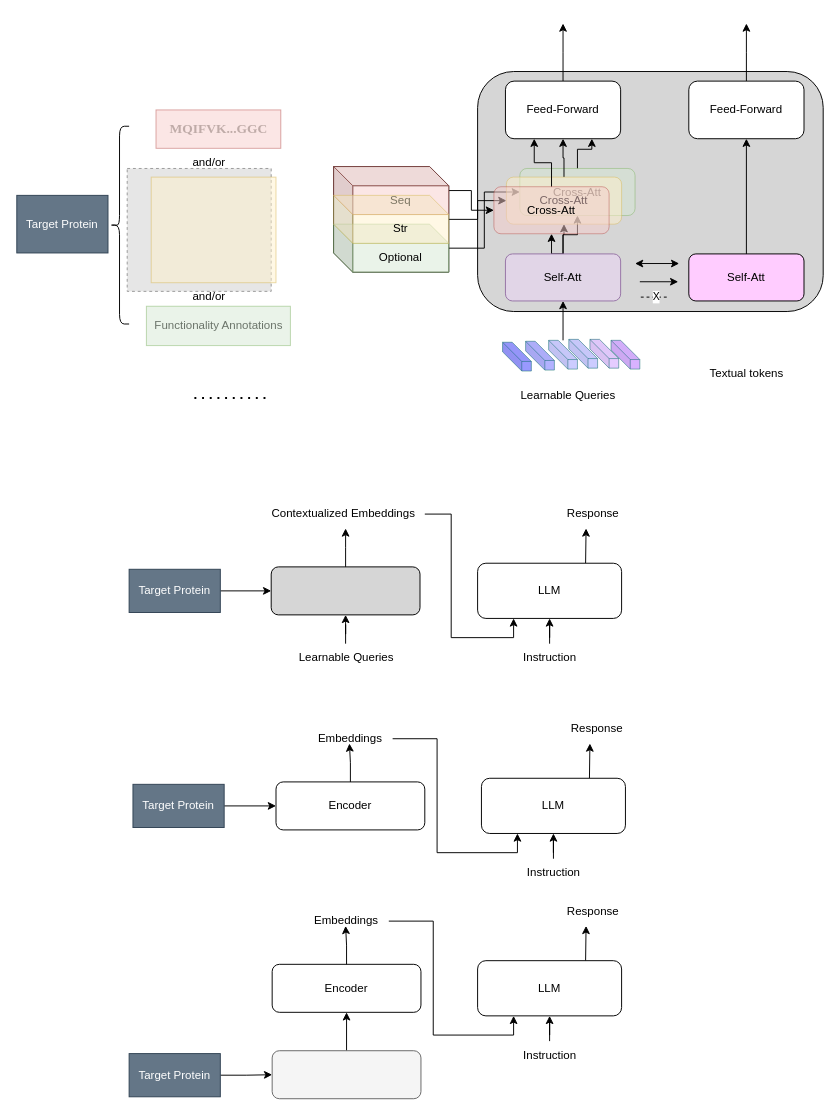
Some shapes in this 840 by 1116 pixel diagram are drawn without their labels. Grey dashed boxes stand in for pictures. The centre of each missing label's shape, as x and y in pixels:
Fusion: (346,1074)
Q-Former: (345,590)
